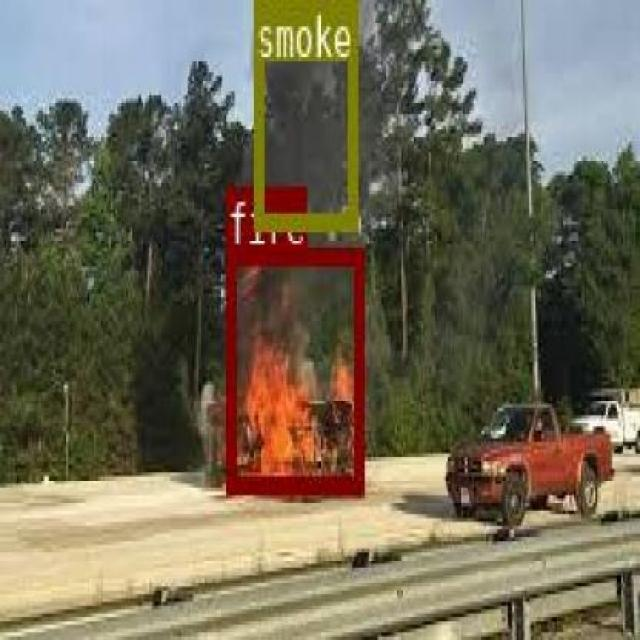CIV_Plane: (225, 248, 362, 489)
Fire: (225, 248, 362, 489)
Smoke: (252, 0, 354, 225)
